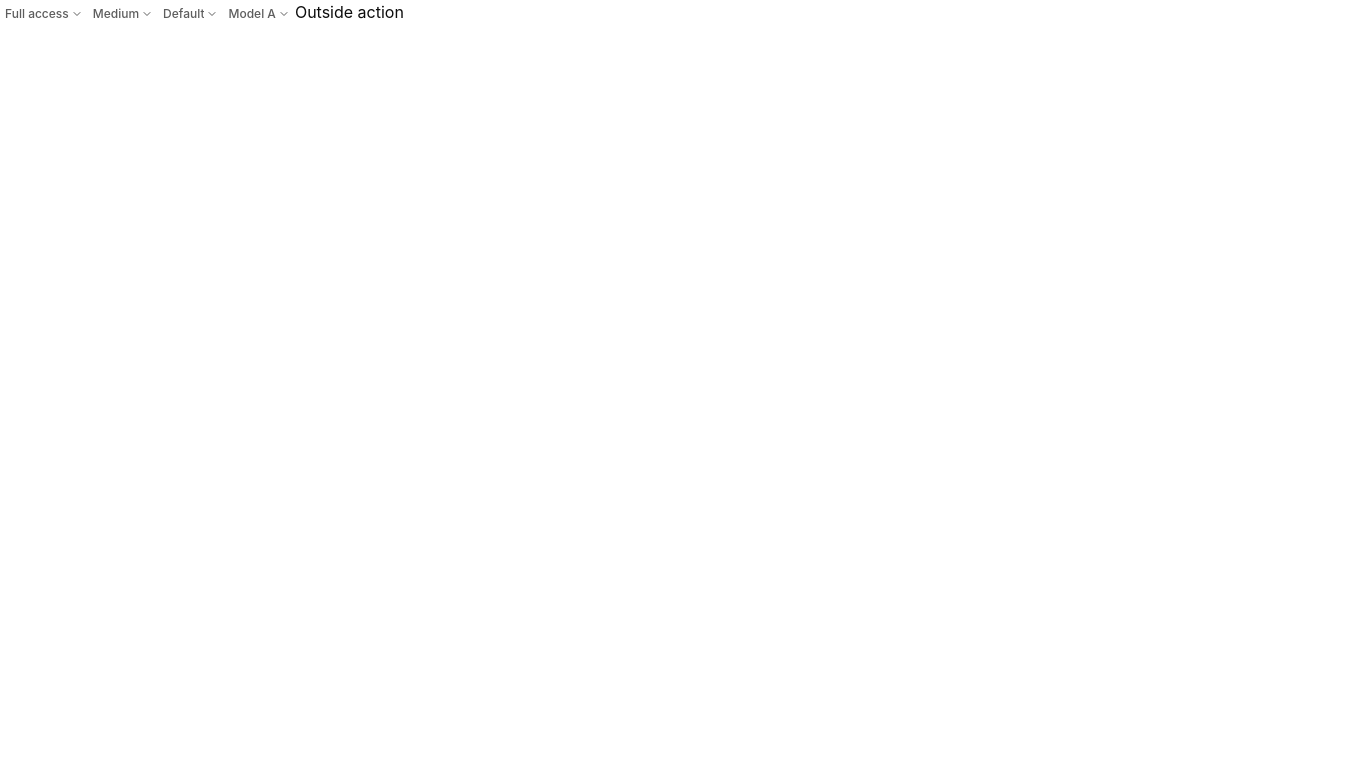
Test: composer selector handoff and motion › hands off both ways between dropdowns and the searchable model popover
Click the button with aria-label "Access: Full access": (44, 14) [0,2,88,26]
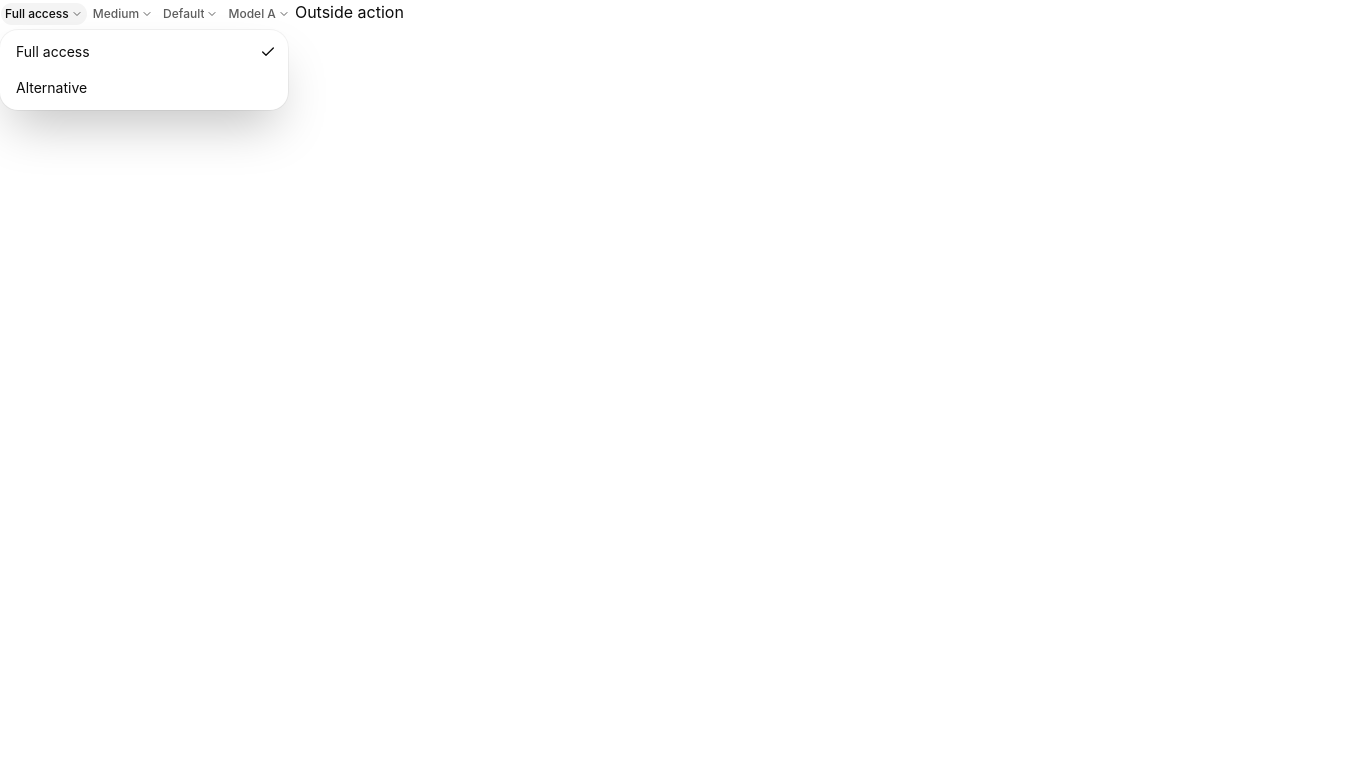
Click the button with aria-label "Model: Model A": (259, 14) [224,2,295,26]
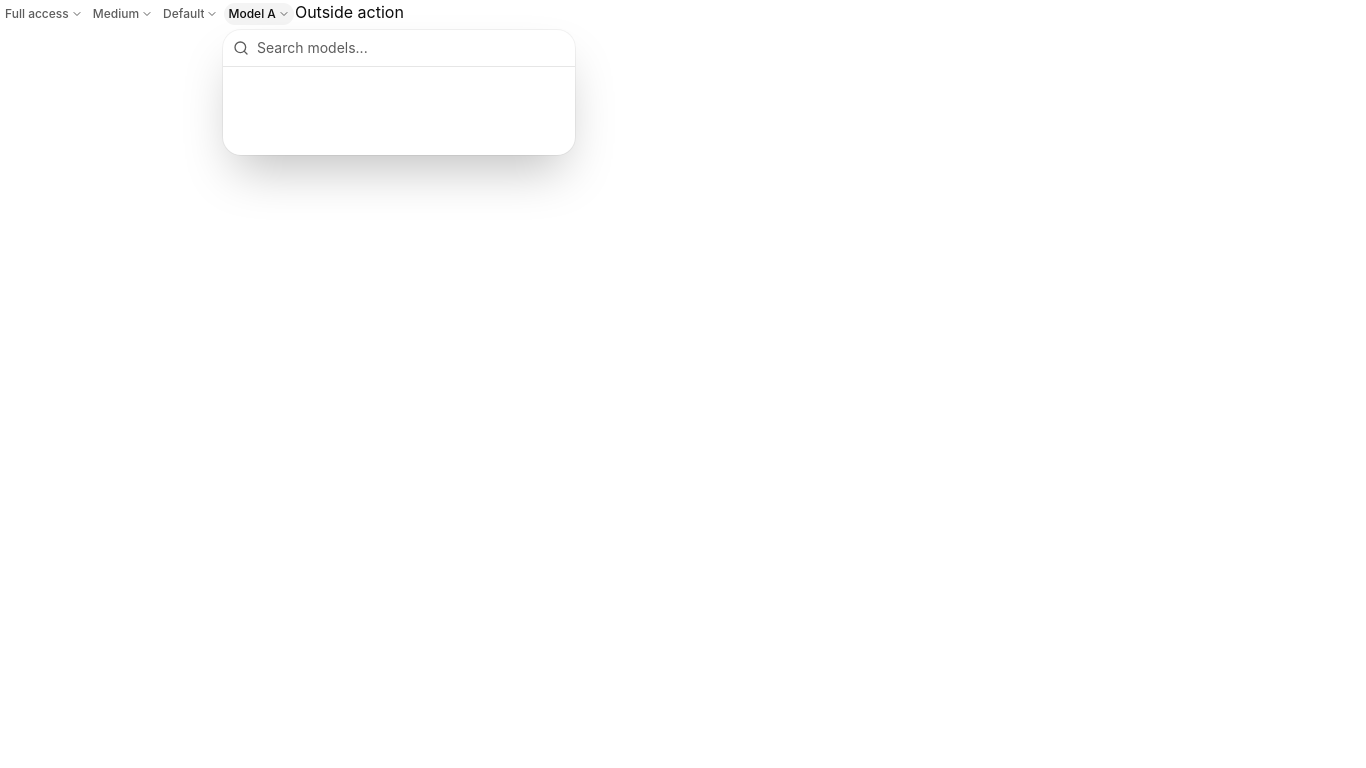
Now the button with aria-label "Model: Model A" is expanded, box [224,2,295,26]
Now the button with aria-label "Access: Full access" is collapsed
Click the button with aria-label "Access: Full access": (44, 14) [0,2,88,26]
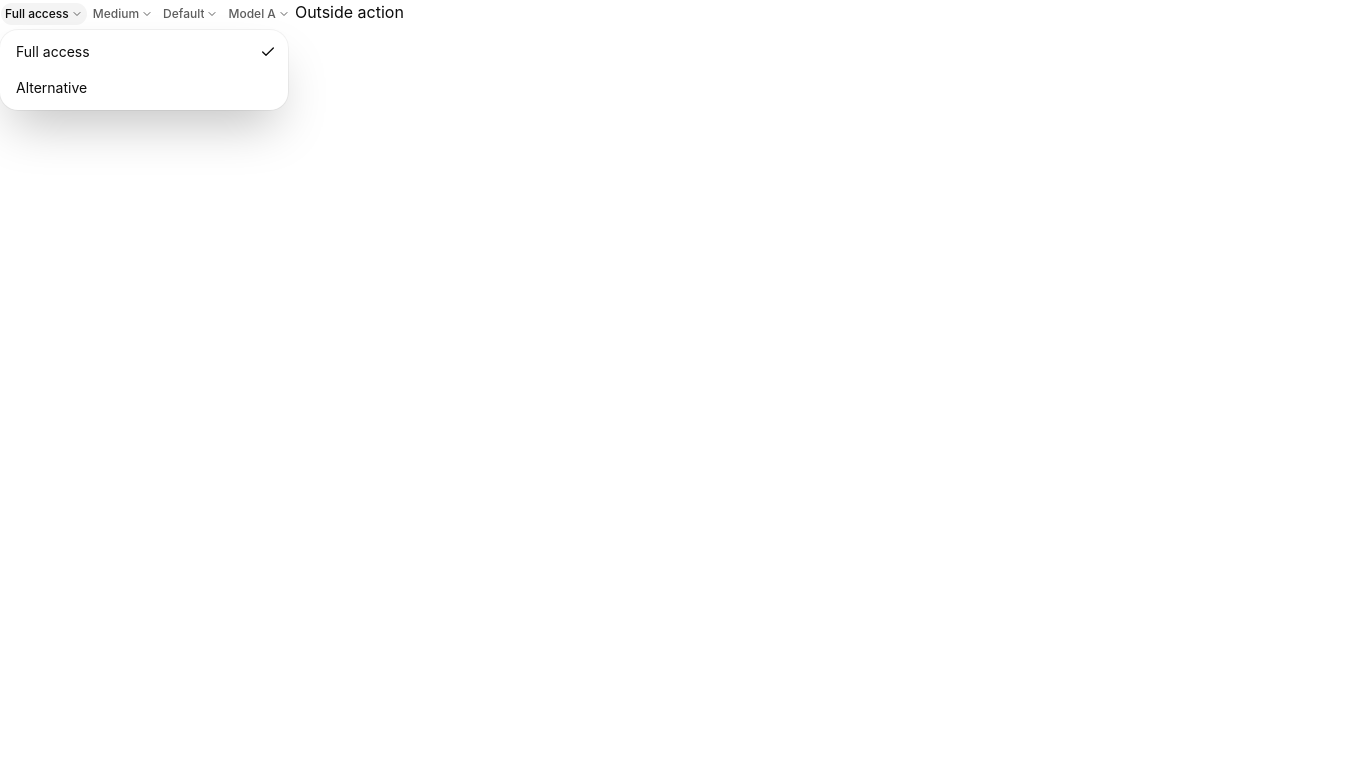
Now the button with aria-label "Access: Full access" is expanded, box [0,2,88,26]
Now the button with aria-label "Model: Model A" is collapsed, box [224,2,295,26]
Now the number of menus is 1, box [0,30,288,110]
